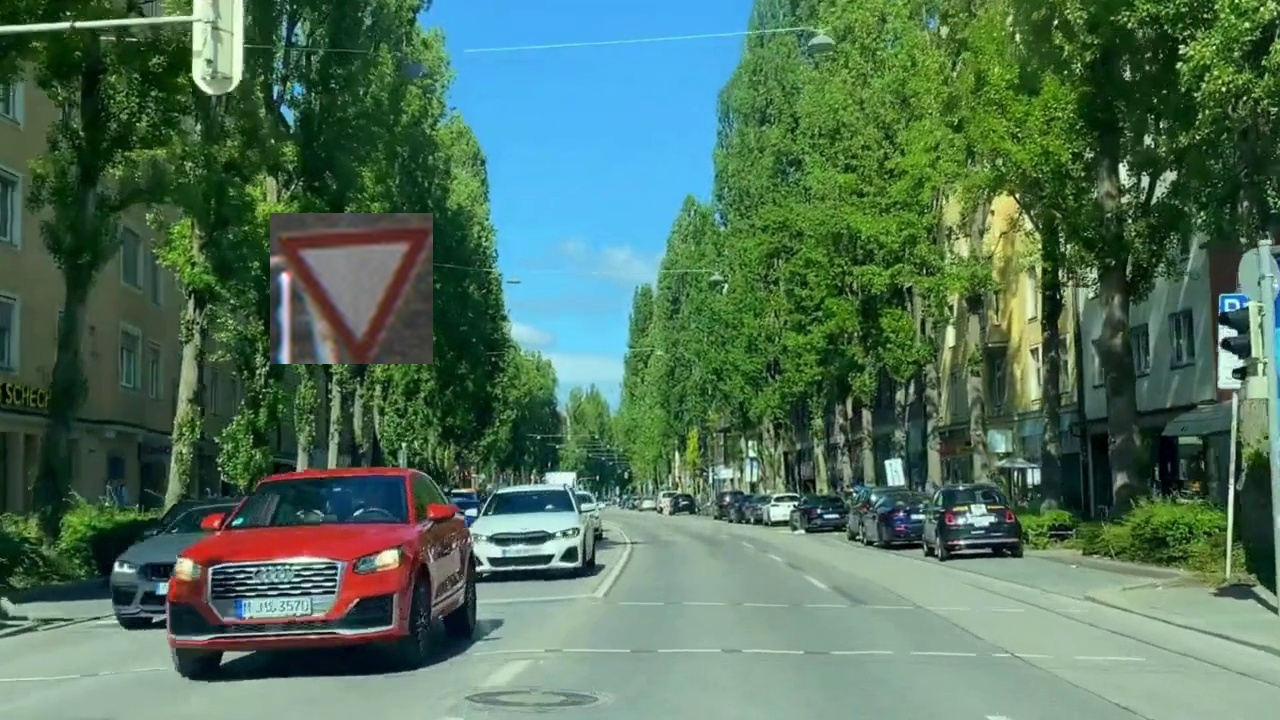Yield: (270, 213, 433, 364)
